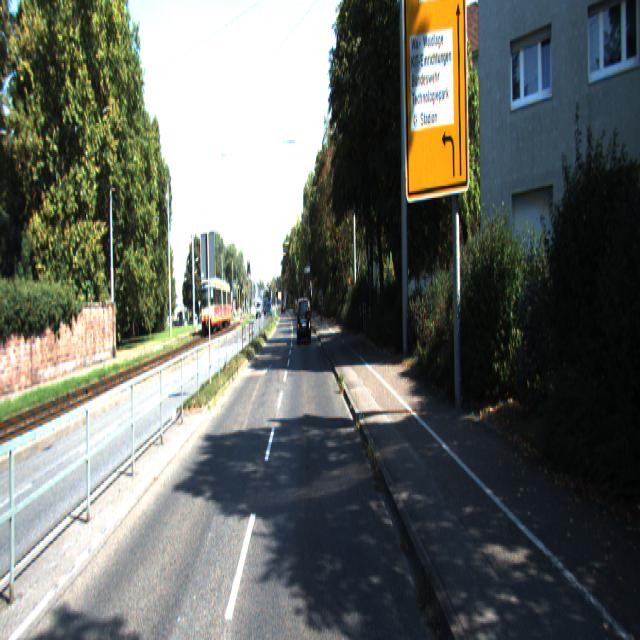Car: (201, 278, 232, 336), (297, 298, 312, 346)
